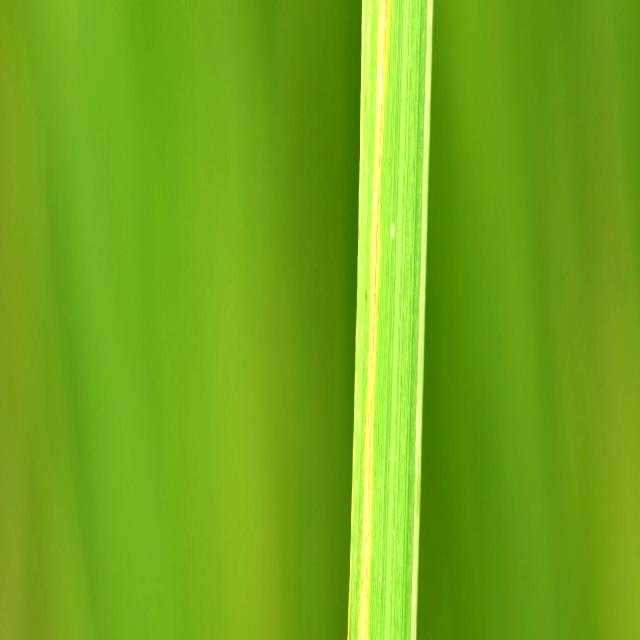BLB: (357, 0, 387, 640)
